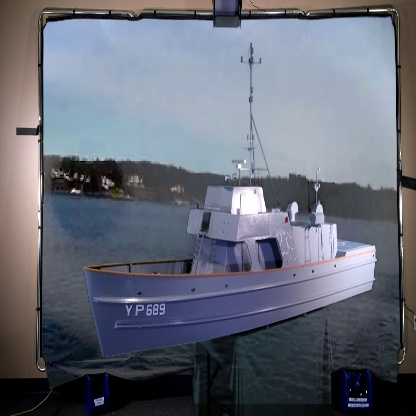YP689: (83, 41, 377, 361)
